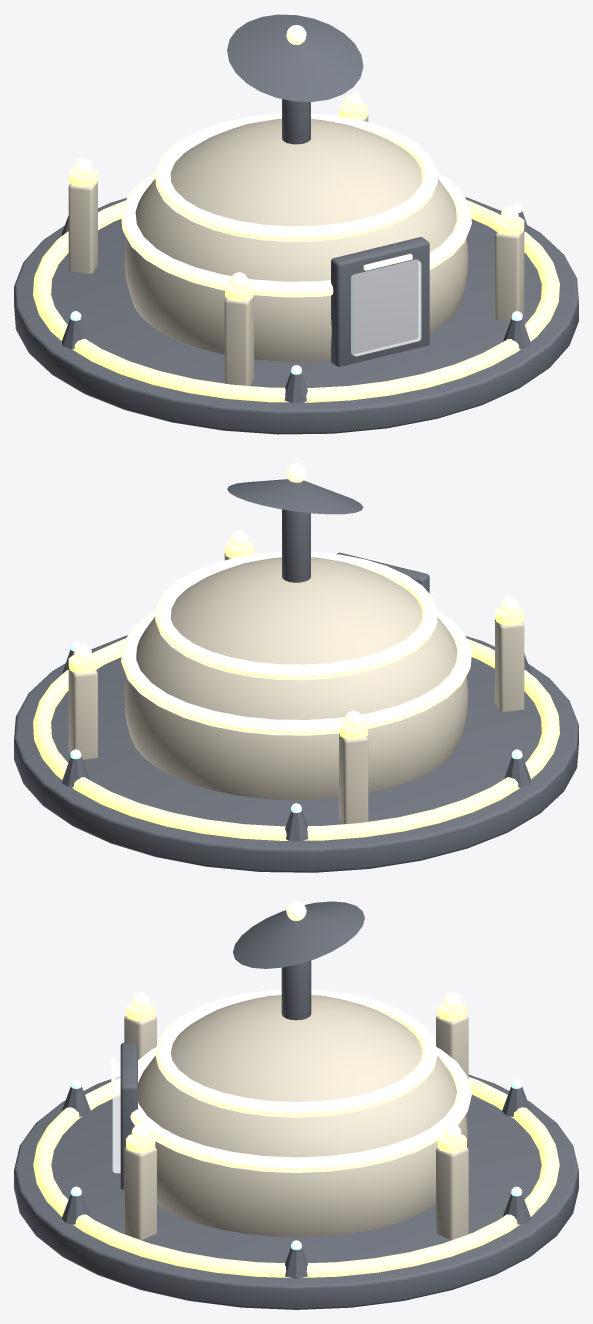
The model's file is colony_base.glb.
3 views of the same model, one above another, from view 1: azimuth 30°, elevation 25°; view 2: azimuth 150°, elevation 25°; view 3: azimuth 270°, elevation 25° (orthographic).
Parts seen in each view (by area): view 1: BaseDome, BasePlat, BaseRing, BaseDoorFrame, BaseDish, BaseWindow1, BaseDoor, BaseWindow0, BasePylon1, BasePylon2, BasePylon3, BaseSpire (+1 smaller); view 2: BaseDome, BasePlat, BaseRing, BaseWindow1, BaseWindow0, BaseDish, BasePylon2, BasePylon1, BasePylon0, BaseSpire, BaseShield2; view 3: BaseDome, BasePlat, BaseRing, BaseWindow1, BaseWindow0, BaseDish, BasePylon0, BasePylon3, BaseDoorFrame, BaseSpire, BasePylon1, BasePylon2 (+6 smaller).
Boxes of the visible parts, box(x1,y1,x2,y2) form: BaseDome: box(124, 119, 468, 361); BasePlat: box(14, 197, 578, 434); BaseRing: box(33, 200, 559, 402); BaseDoorFrame: box(331, 237, 429, 366); BaseDish: box(227, 14, 363, 101); BaseWindow1: box(155, 113, 437, 241); BaseDoor: box(351, 259, 421, 356); BaseWindow0: box(121, 171, 471, 297); BasePylon1: box(68, 180, 97, 273); BasePylon2: box(224, 295, 253, 385); BasePylon3: box(495, 229, 524, 321); BaseSpire: box(282, 99, 310, 144); BaseDome: box(124, 557, 468, 799); BasePlat: box(14, 635, 578, 872); BaseRing: box(33, 638, 559, 840); BaseWindow1: box(155, 552, 437, 680); BaseWindow0: box(121, 610, 471, 735); BaseDish: box(227, 479, 363, 514); BasePylon2: box(495, 619, 524, 711); BasePylon1: box(339, 733, 368, 824); BasePylon0: box(68, 667, 97, 759); BaseSpire: box(282, 509, 310, 582); BaseShield2: box(285, 810, 308, 841); BaseDome: box(138, 995, 467, 1236); BasePlat: box(14, 1074, 578, 1309); BaseRing: box(33, 1077, 559, 1277); BaseWindow1: box(155, 989, 437, 1117); BaseWindow0: box(130, 1047, 471, 1172); BaseDish: box(233, 901, 364, 968); BasePylon0: box(436, 1147, 468, 1239); BasePylon3: box(124, 1147, 156, 1239); BaseDoorFrame: box(120, 1042, 137, 1189); BaseSpire: box(281, 960, 311, 1020); BasePylon1: box(436, 1016, 468, 1079); BasePylon2: box(124, 1016, 156, 1059).
Bounding box in the file's own units: 5 × 3.47 × 5.
